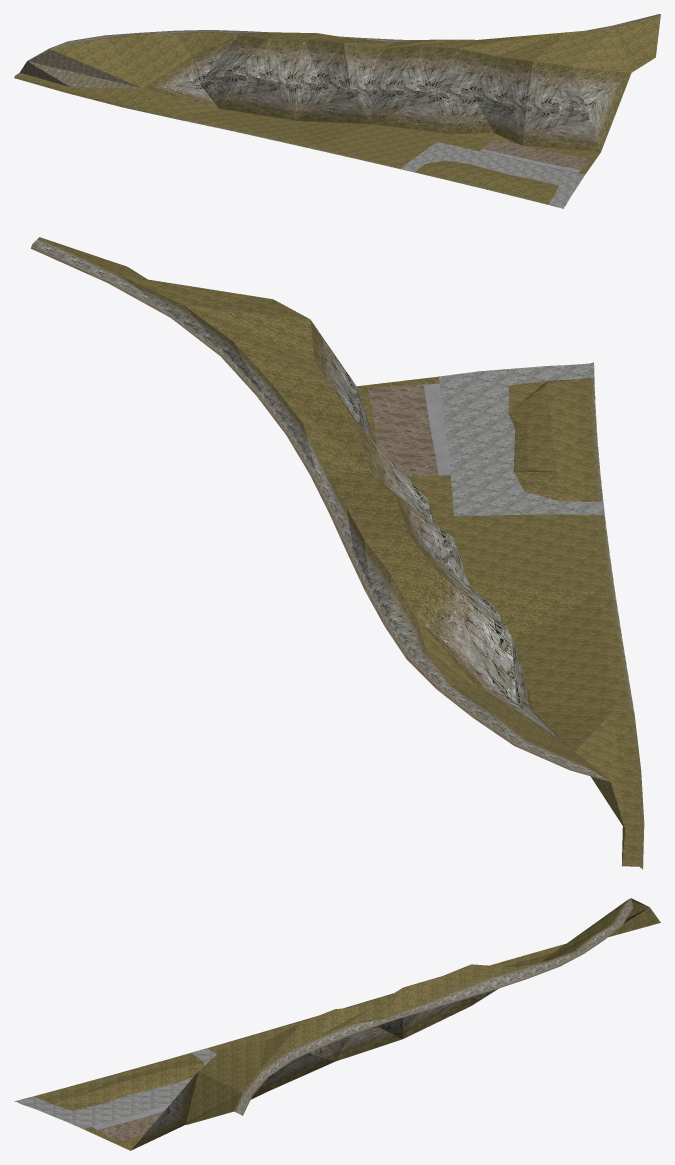
File: cuntwland31b.obj
The picture shows the model from 3 angles, top to bottom: view 1: azimuth 30°, elevation 25°; view 2: azimuth 150°, elevation 25°; view 3: azimuth 270°, elevation 25°; orthographic projection. The views are drawn at different scales.
Visible parts, largest first — view 1: cuntwland31b; view 2: cuntwland31b; view 3: cuntwland31b.
Part boxes in pixels (bbox=[...]): cuntwland31b: bbox=[14, 14, 660, 208]; cuntwland31b: bbox=[31, 237, 644, 869]; cuntwland31b: bbox=[14, 898, 660, 1150].
Bounding box in the file's own units: 309 × 52.91 × 299.
9 materials, 9 textured.
